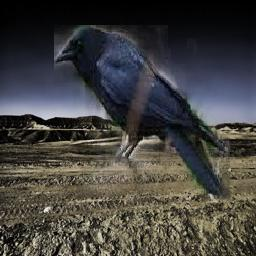Crow: (54, 25, 230, 199)
